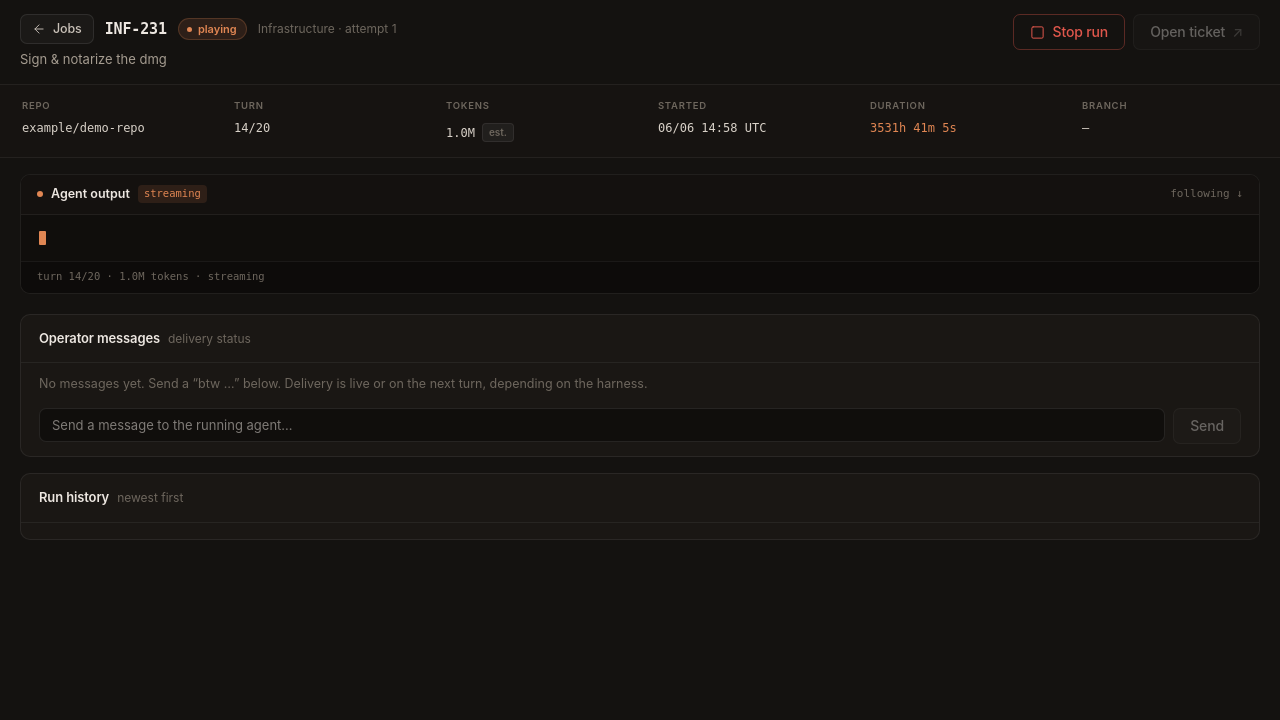
Test case: RunDetail header + meta › toasts the move-failure when the agent was killed but the ticket couldn't be moved
Expected: the heading "INF-231" is shown, [105,18,167,40]
Click the button "Stop run": (1069, 32) [1014,14,1125,50]
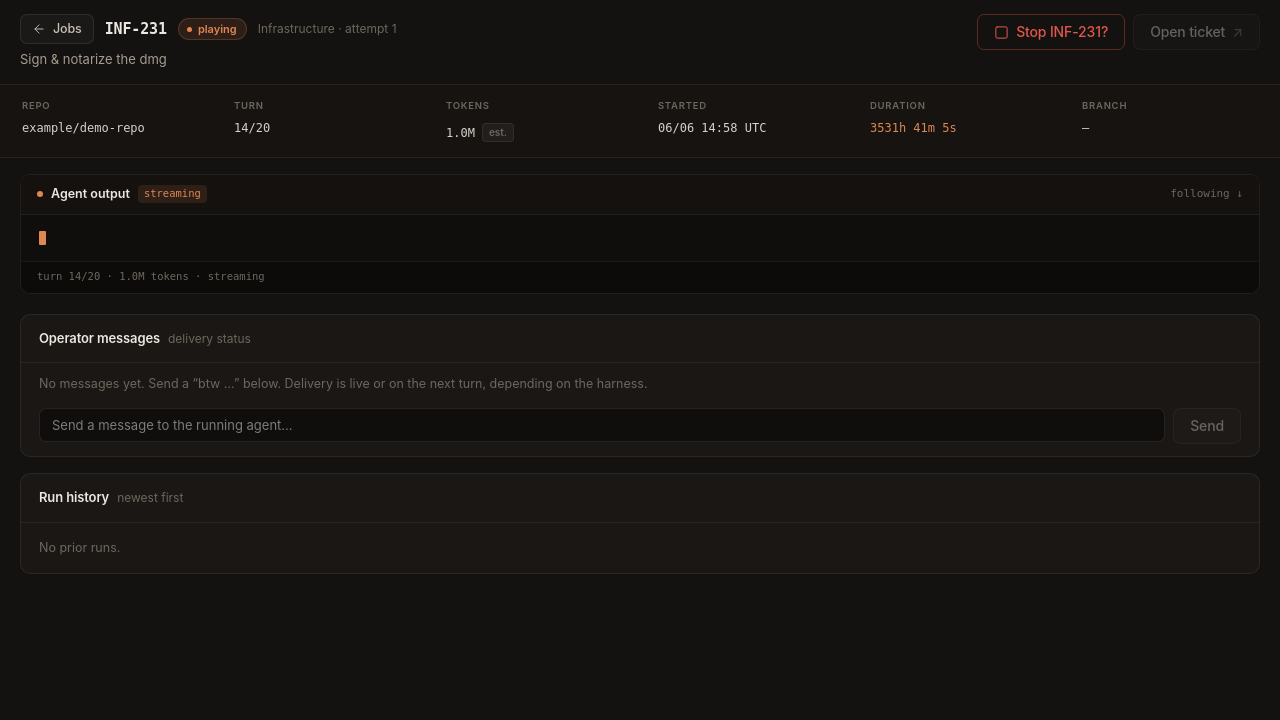
Click the button "Stop INF-231?": (1051, 32) [977,14,1125,50]
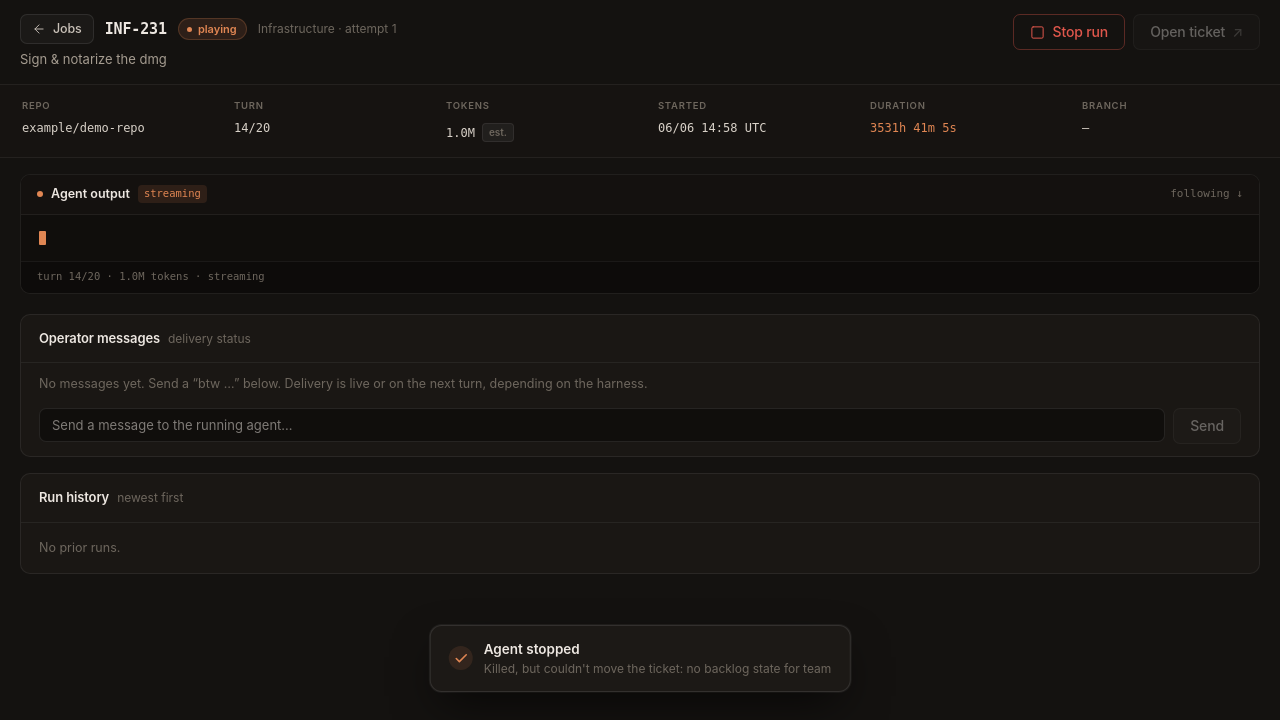
Now the text "couldn't move the ticket: no backlog state for team" is shown, box [484,661,831,676]
